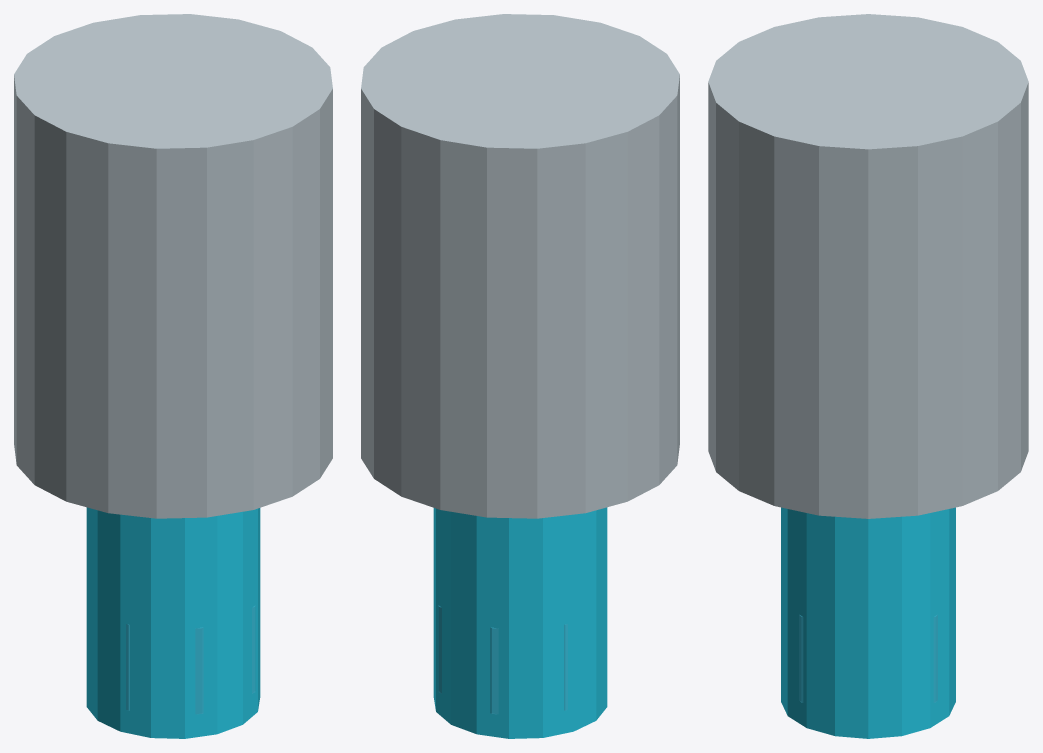
The model's file is 30_L77_SelectiveProcessFluidManifold.fbx.
3 views of the same model, side by side, from view 1: azimuth 30°, elevation 25°; view 2: azimuth 150°, elevation 25°; view 3: azimuth 270°, elevation 25° (orthographic).
Parts seen in each view (by area): view 1: SelectiveProcessFluidManifold_Part_0000, SelectiveProcessFluidManifold_Part_0001, SelectiveProcessFluidManifold_Part_0004; view 2: SelectiveProcessFluidManifold_Part_0000, SelectiveProcessFluidManifold_Part_0001, SelectiveProcessFluidManifold_Part_0007; view 3: SelectiveProcessFluidManifold_Part_0000, SelectiveProcessFluidManifold_Part_0001.
Boxes of the visible parts, x1,y1,x2,y2 form: SelectiveProcessFluidManifold_Part_0000: (14,14,332,518); SelectiveProcessFluidManifold_Part_0001: (86,507,260,738); SelectiveProcessFluidManifold_Part_0004: (195,627,203,714); SelectiveProcessFluidManifold_Part_0000: (361,14,679,518); SelectiveProcessFluidManifold_Part_0001: (433,507,607,738); SelectiveProcessFluidManifold_Part_0007: (490,627,498,714); SelectiveProcessFluidManifold_Part_0000: (708,14,1028,518); SelectiveProcessFluidManifold_Part_0001: (781,507,955,738).
Size of the model in its own units: 22 by 47 by 22.
